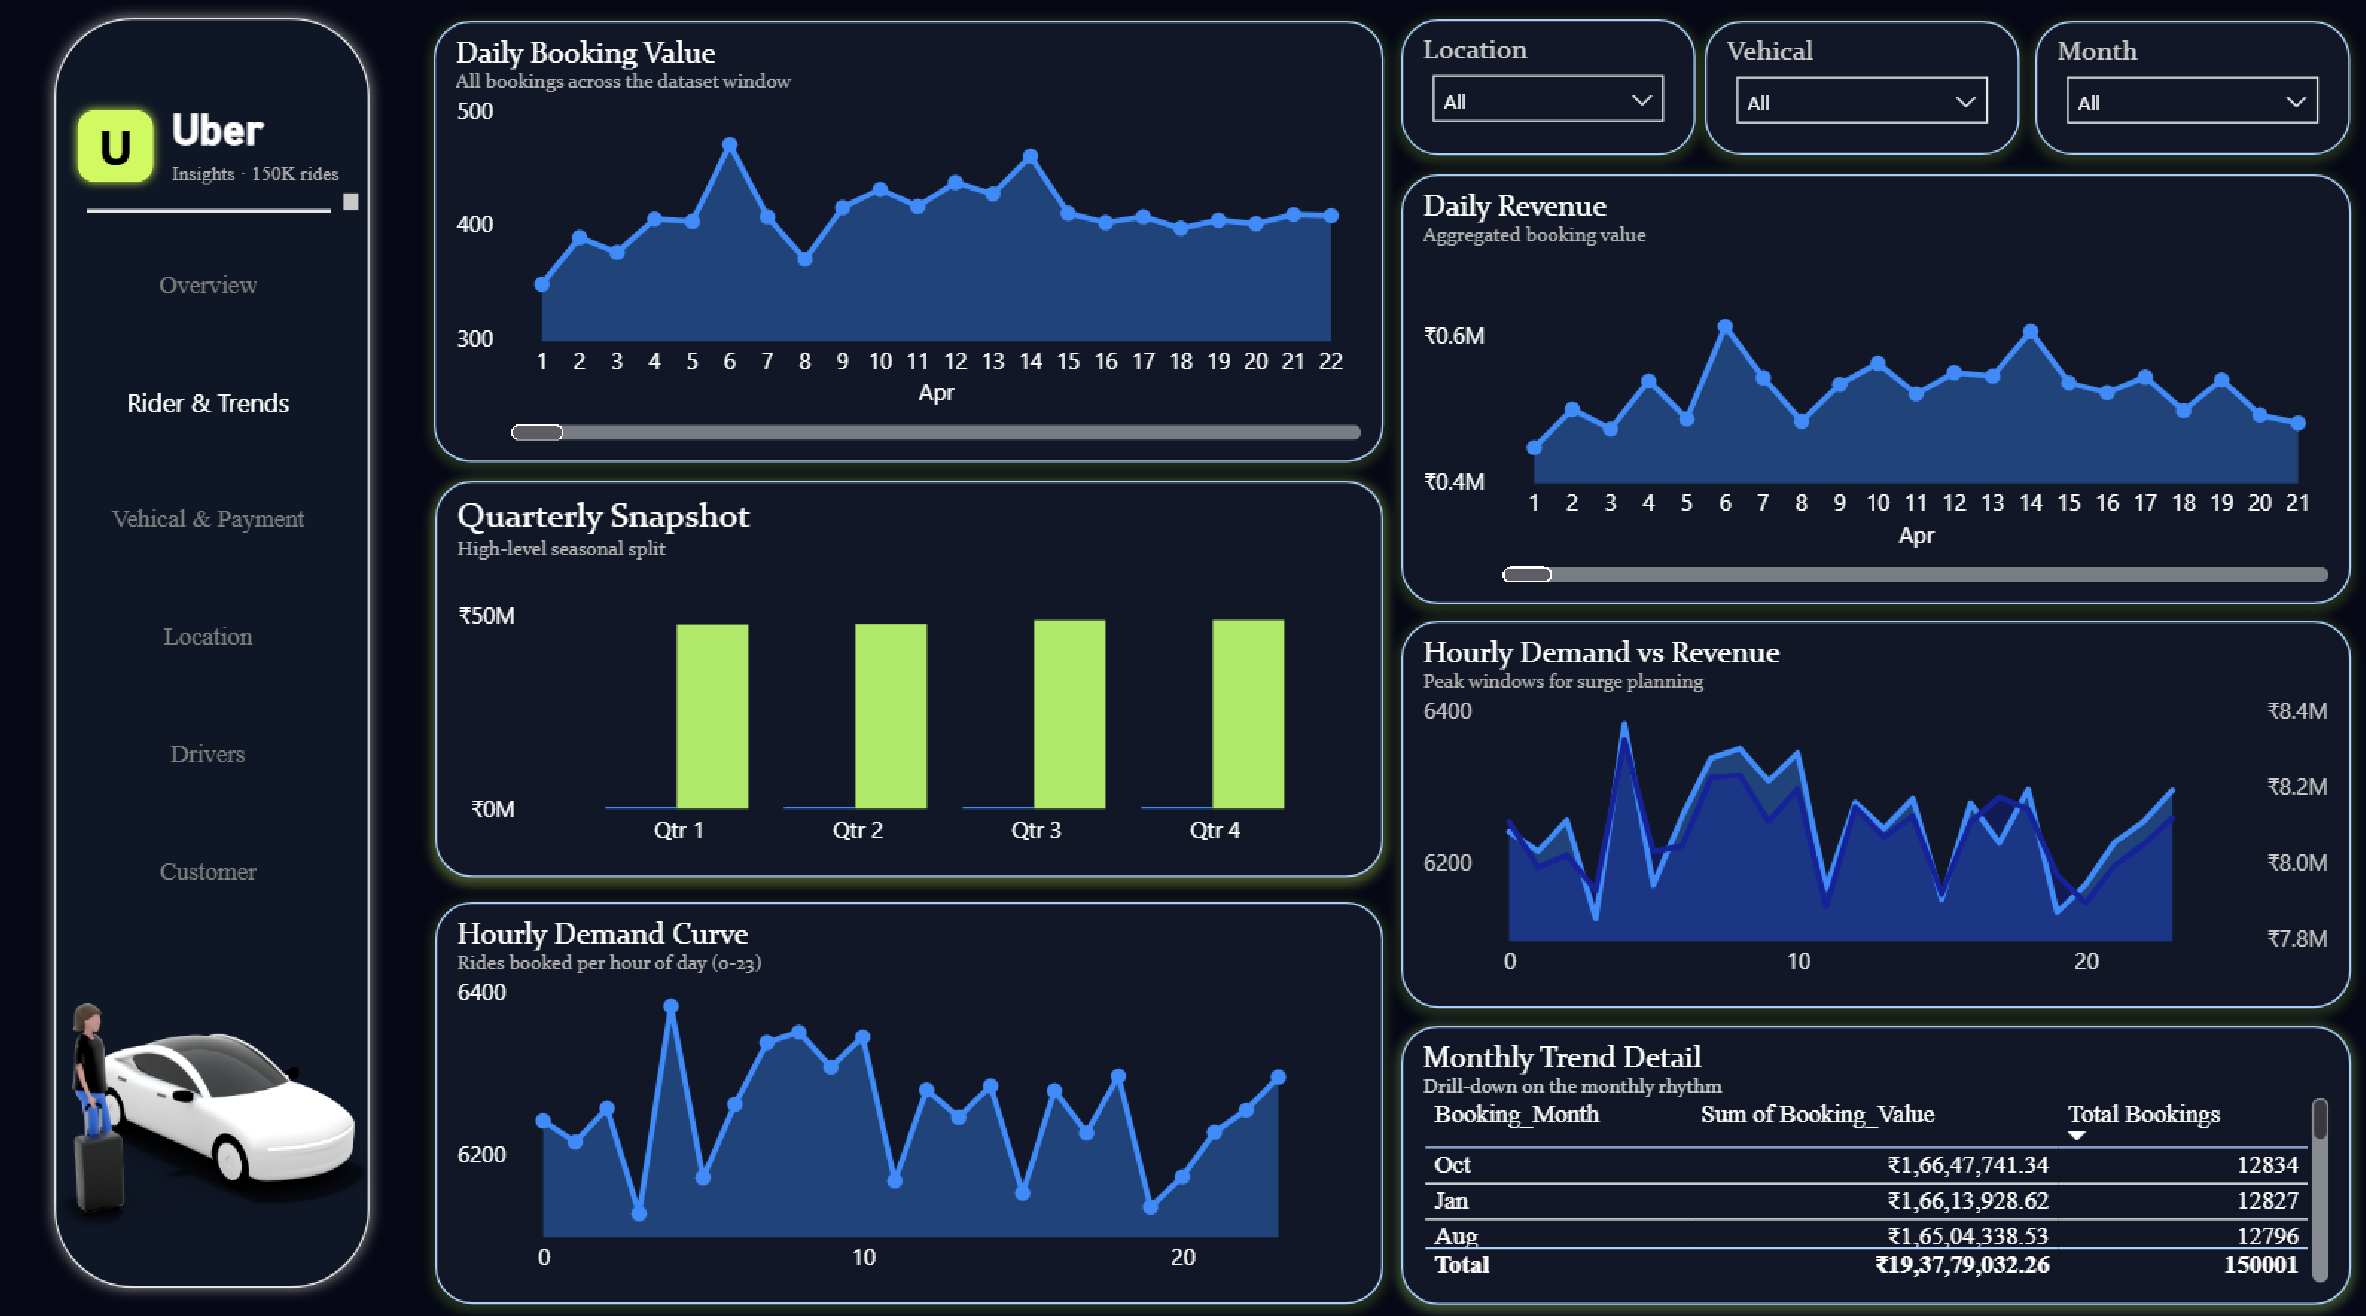

The dashboard page shown, as its layout file describes it:
{"tool":"powerbi","page":{"name":"Rider & Trends","canvas":[1280,720],"ordinal":1},"visuals":[{"type":"pageNavigator","box":[37.3,173.6,130,371.8],"z":0},{"type":"clusteredColumnChart","title":"Quarterly Snapshot","fields":{"Category":["Booking_Transactions.Booking Date.Variation.Date Hierarchy.Quarter"],"Y":["CountNonNull(Booking_Transactions.Booking_ID)","Sum(Booking_Transactions.Booking_Value)"]},"box":[238,268,509,213],"z":1000},{"type":"lineChart","title":"Hourly Demand Curve","fields":{"Category":["Booking_Transactions.Booking Hour"],"Y":["Measure.Total Bookings"]},"box":[238,494,509,216],"z":2000},{"type":"shape","box":[25.7,11.5,185.3,697.8],"z":3000},{"type":"shape","box":[40.4,63,51.6,49.6],"z":4000},{"type":"textbox","title":"Uber","box":[92.2,66.5,110,61.2],"z":5000},{"type":"pageNavigator","box":[51.3,135.7,130.2,372.3],"z":6000},{"type":"shape","box":[51.3,112.4,131.2,20.4],"z":7000},{"type":"image","box":[13,498,218,202],"z":8000},{"type":"slicer","title":"Month","fields":{"Values":["Booking_Transactions.Booking_Month"]},"box":[1097.5,21.1,168.7,72.4],"z":9000},{"type":"slicer","title":"Vehical","fields":{"Values":["Booking_Transactions.Vehicle_Type"]},"box":[919.7,21.1,168.7,72.4],"z":10000},{"type":"slicer","title":"Location","fields":{"Values":["Booking_Transactions.Drop_Location"]},"box":[757,20,158,73],"z":11000},{"type":"lineChart","title":"Daily Revenue","fields":{"Y":["Sum(Booking_Transactions.Booking_Value)"],"Category":["Booking_Transactions.Booking_Month","Booking_Transactions.Booking Date.Variation.Date Hierarchy.Day"]},"box":[757,103,510,231],"z":12000},{"type":"lineChart","title":"Daily Booking Value","fields":{"Category":["Booking_Transactions.Booking_Month","Booking_Transactions.Booking_Date.Variation.Date Hierarchy.Day"],"Y":["Measure.Total Bookings"]},"box":[237,21,510,237],"z":13000},{"type":"areaChart","title":"Hourly Demand vs Revenue","fields":{"Category":["Booking_Transactions.Booking Hour"],"Y":["Measure.Total Bookings"],"Y2":["Measure.Total Revenue (Cr)"]},"box":[757,343,510,208],"z":14000},{"type":"tableEx","title":"Monthly Trend Detail","fields":{"Values":["Booking_Transactions.Booking_Month","Sum(Booking_Transactions.Booking_Value)","Measure.Total Bookings"]},"box":[757,560,510,150],"z":15000}]}

Visuals, with their boxes in screenshot pixels (x1, y1, x2, y2), scaled from the page's 1280x720 canvas onto the 2366x1316 screenshot:
pageNavigator: <box>69,317,309,997</box>
"Quarterly Snapshot" clusteredColumnChart: <box>440,490,1381,879</box>
"Hourly Demand Curve" lineChart: <box>440,903,1381,1298</box>
shape: <box>48,21,390,1296</box>
shape: <box>75,115,170,206</box>
"Uber" textbox: <box>170,122,374,233</box>
pageNavigator: <box>95,248,335,929</box>
shape: <box>95,205,337,243</box>
image: <box>24,910,427,1279</box>
"Month" slicer: <box>2029,39,2340,171</box>
"Vehical" slicer: <box>1700,39,2012,171</box>
"Location" slicer: <box>1399,37,1691,170</box>
"Daily Revenue" lineChart: <box>1399,188,2342,610</box>
"Daily Booking Value" lineChart: <box>438,38,1381,472</box>
"Hourly Demand vs Revenue" areaChart: <box>1399,627,2342,1007</box>
"Monthly Trend Detail" tableEx: <box>1399,1024,2342,1298</box>
